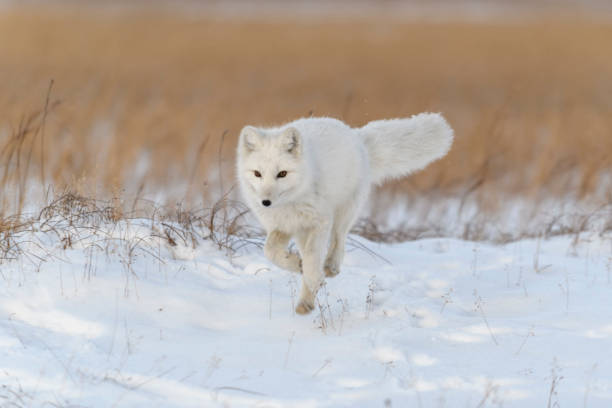arcticfox: (245, 148, 298, 221)
